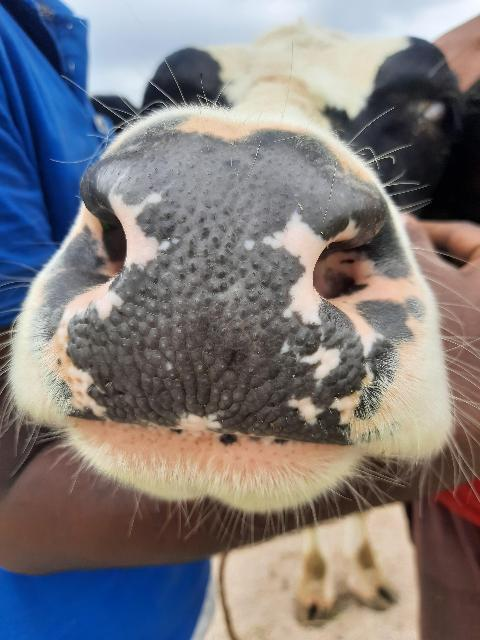Muzzle: (108, 154, 340, 440)
